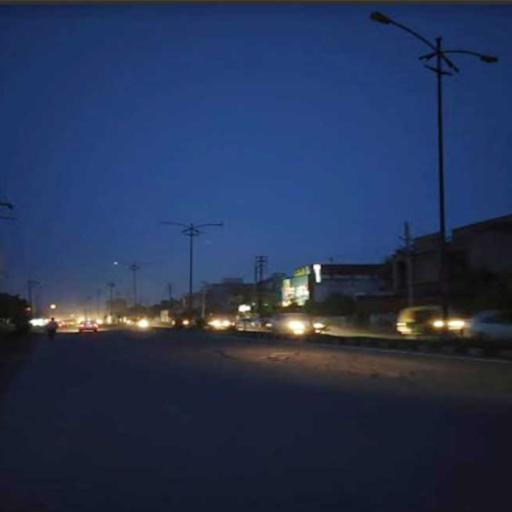off street light: (370, 4, 502, 322), (151, 207, 223, 330)
